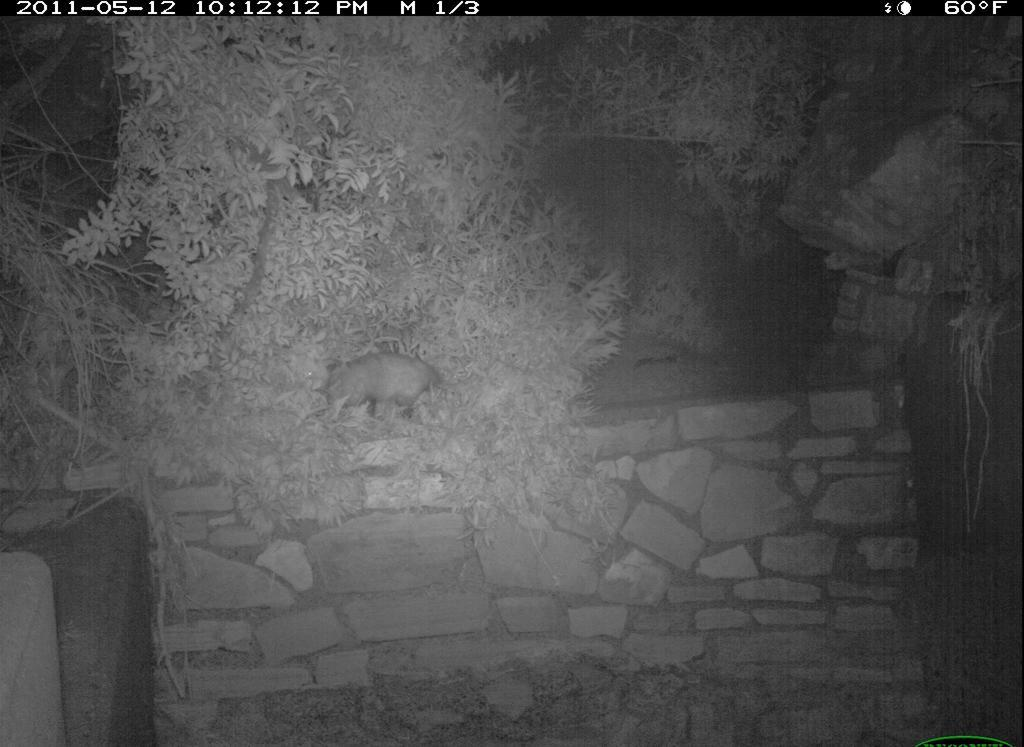opossum: (310, 346, 459, 436)
